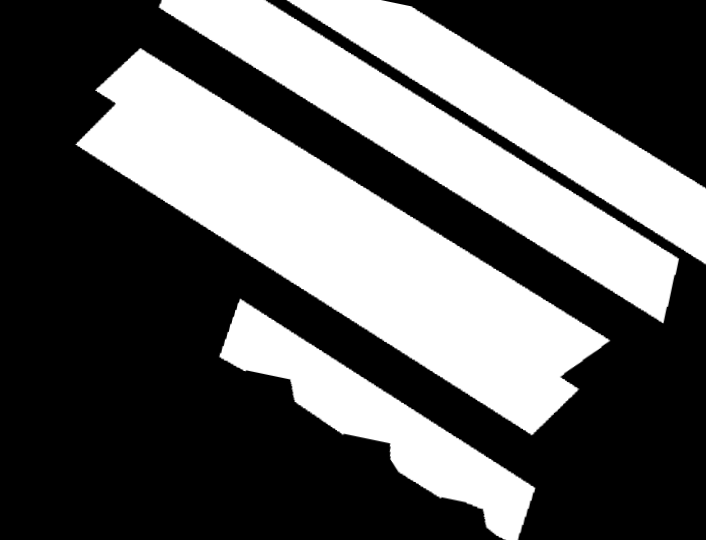parkingspot: (76, 48, 610, 435), (159, 0, 679, 323), (287, 0, 706, 264), (219, 299, 535, 540)
